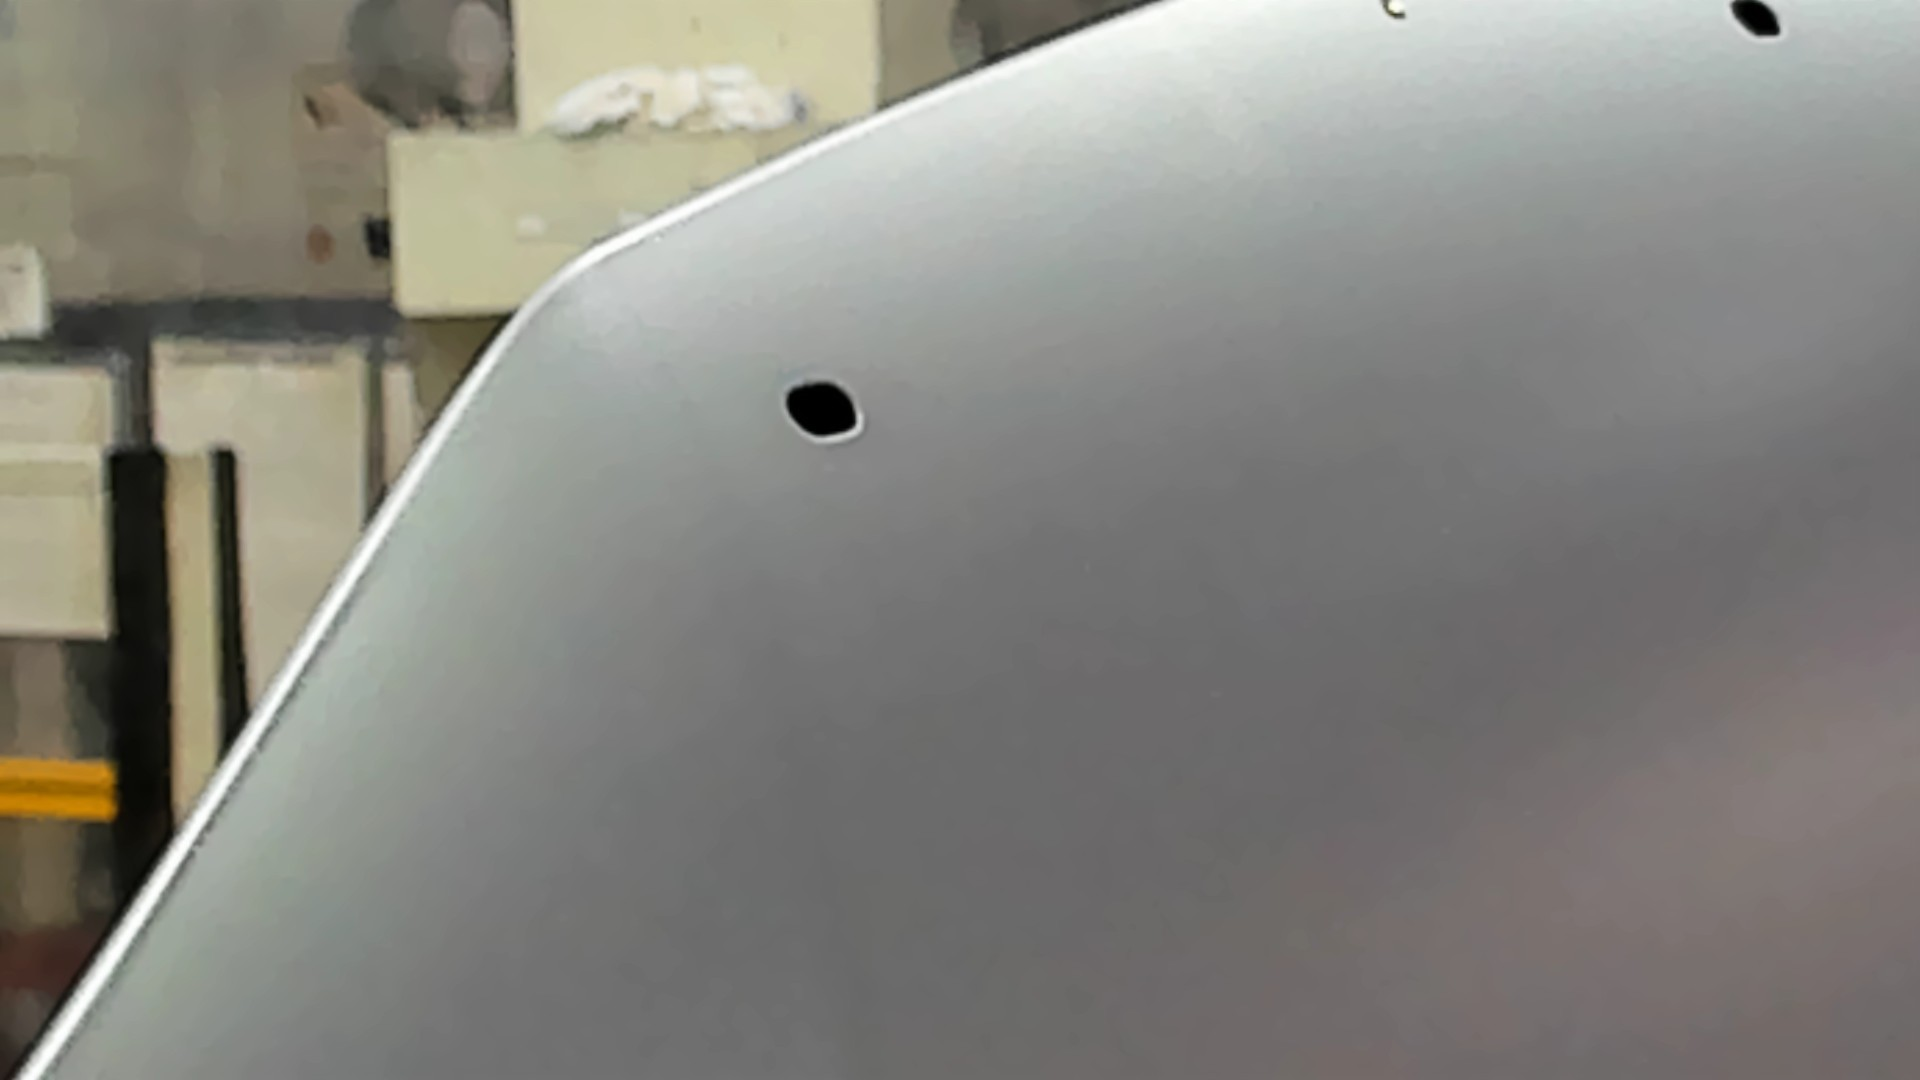amorfo: (774, 372, 874, 447), (1725, 1, 1787, 46)
capo: (964, 84, 1920, 1080)
